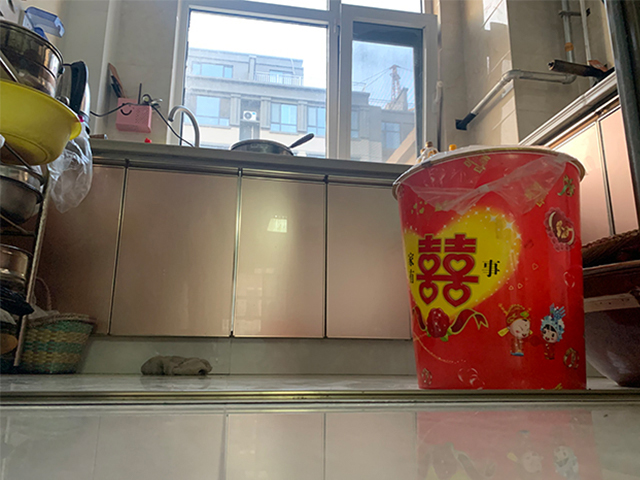cabinet: (47, 136, 405, 375)
trashcan: (392, 144, 587, 390)
